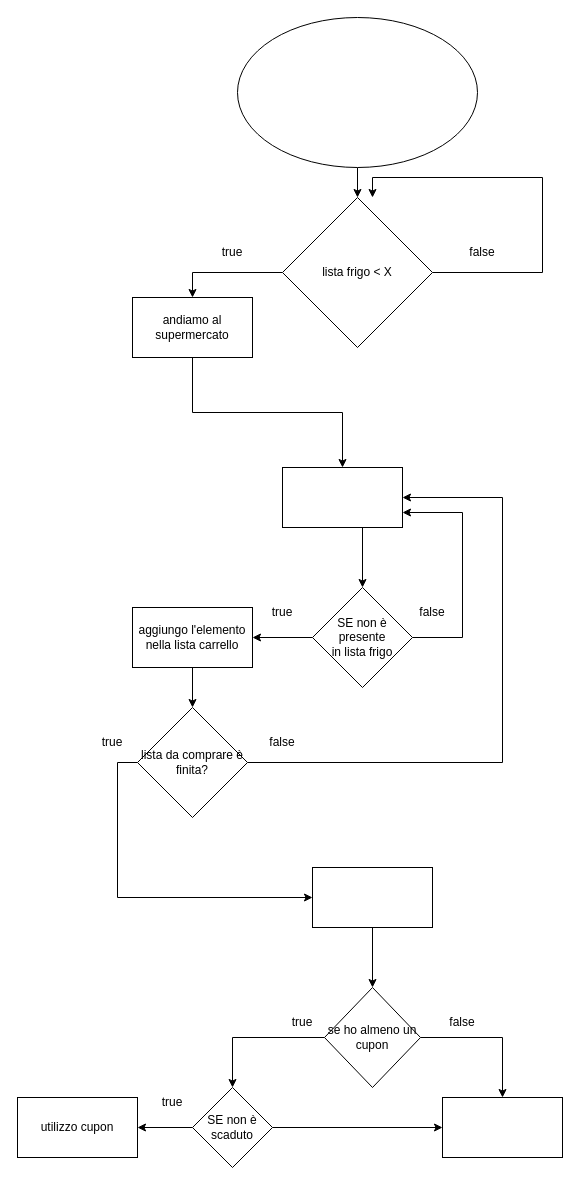
Image size: 580x1185. Some labels were removed from this diagram. The shapes that lost their labels are listed below. From the top down, each one's centre as x and y in pixels, then its label:
At [357,92]: "lista frigo lista da comprare lista carrello coupon".
At [342,497]: "prendiamo un elemento in ordine dalla lista da comprare".
At [372,897]: "finita lista da comprare andare alla cassa".
At [502,1127]: "pago con saldo portafoglio".
